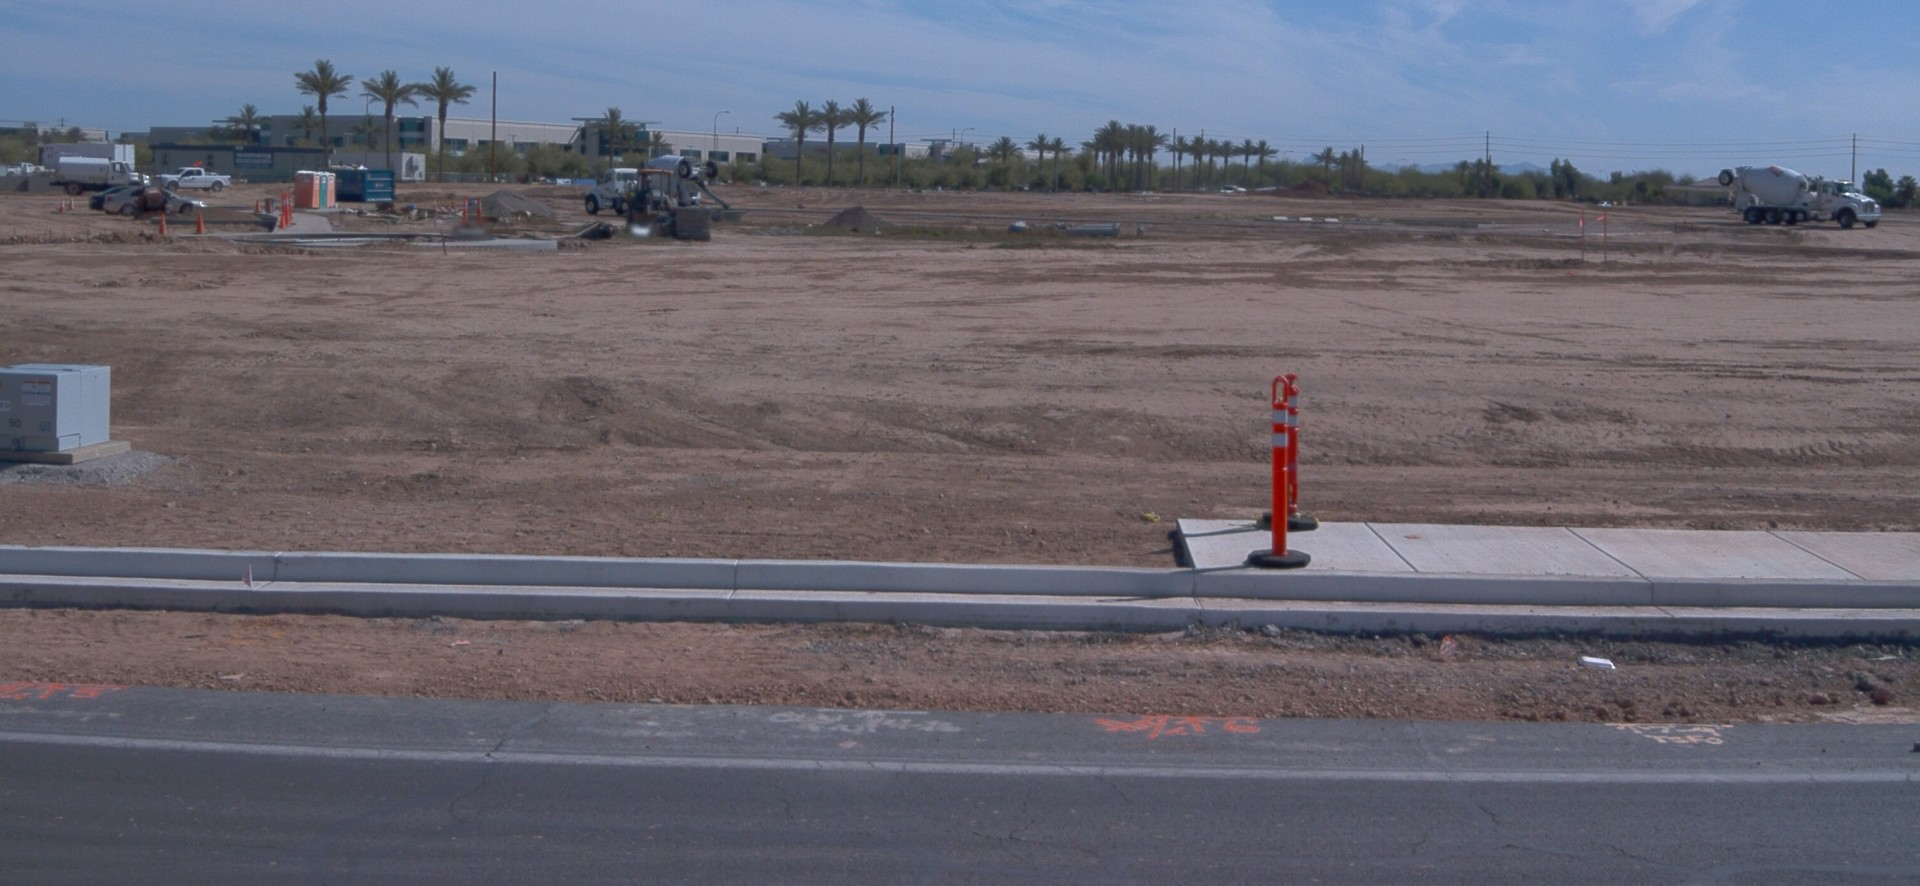TYPE_PEDESTRIAN: (628, 185, 638, 203)
TYPE_VEHICLE: (1718, 160, 1887, 234), (585, 156, 734, 221), (625, 161, 694, 233), (51, 154, 156, 197), (48, 143, 139, 185), (101, 180, 211, 214), (154, 165, 231, 194), (131, 167, 171, 219), (0, 160, 51, 181), (88, 189, 127, 213), (1219, 181, 1249, 195)
